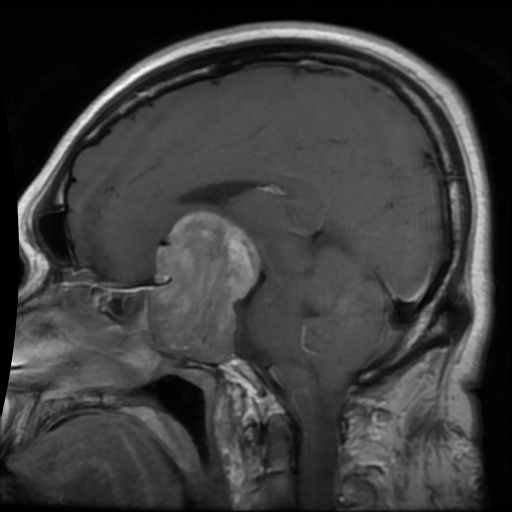pituitary: (153, 216, 259, 361)
